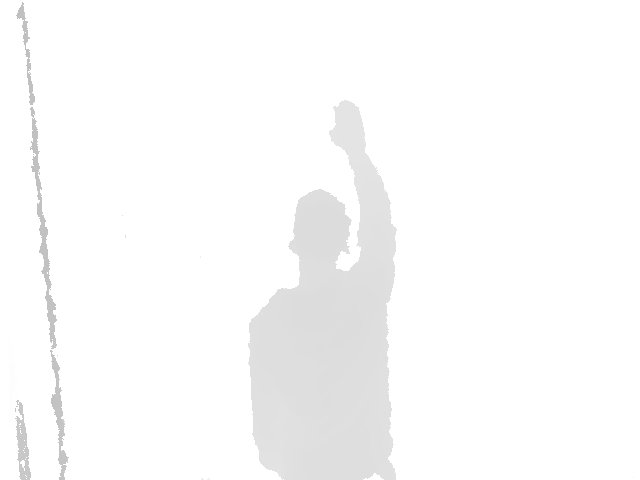hand: (330, 100, 366, 159)
head: (288, 188, 352, 274)
person: (247, 101, 397, 480)
